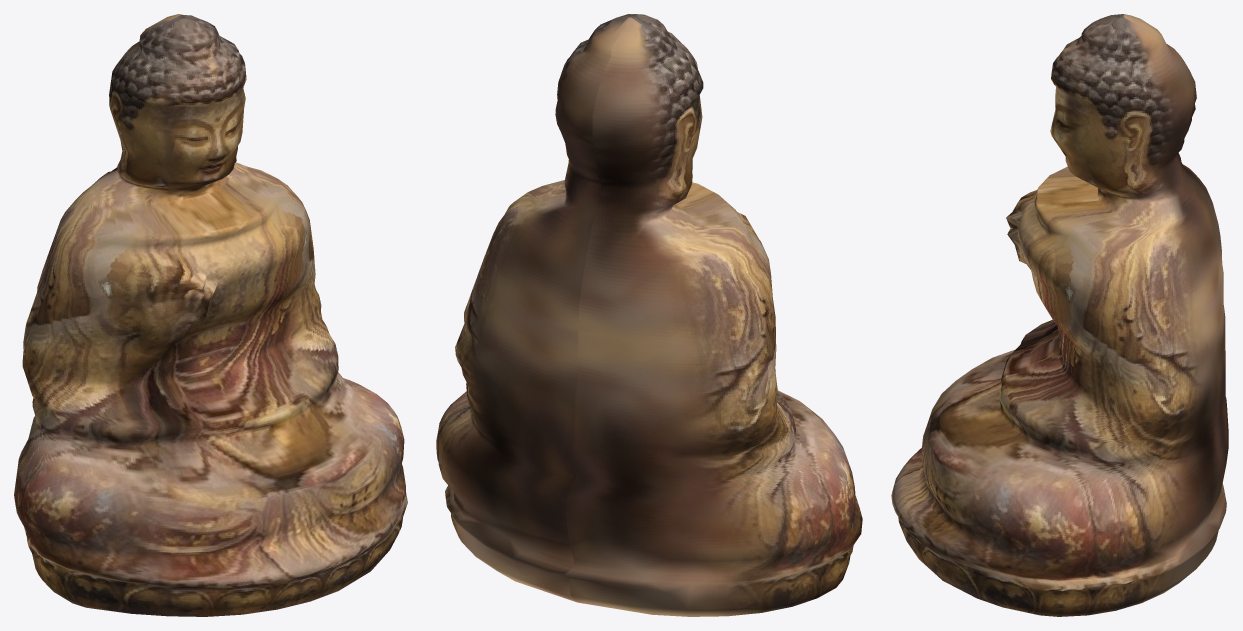
The model's file is seven-3.glb.
The picture shows the model from 3 angles, left to right: view 1: azimuth 30°, elevation 25°; view 2: azimuth 150°, elevation 25°; view 3: azimuth 270°, elevation 25°; orthographic projection. The views are drawn at different scales.
Parts seen in each view (by area): view 1: seven-3; view 2: seven-3; view 3: seven-3.
Boxes of the visible parts, x1=… form: seven-3: x1=14, y1=14, x2=407, y2=616; seven-3: x1=436, y1=14, x2=862, y2=616; seven-3: x1=891, y1=14, x2=1228, y2=616.
Bounding box in the file's own units: 0.7362 × 1 × 0.5866.
Materials: 1 (1 with a texture image).
